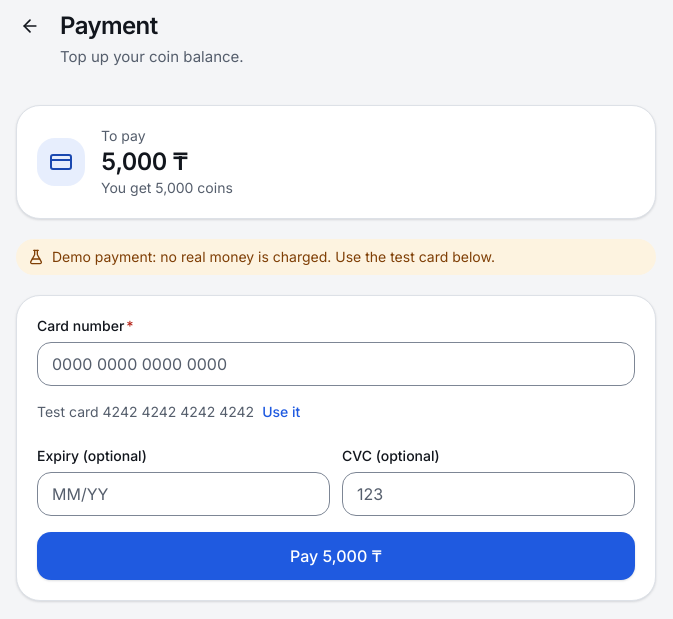
Test: CheckoutView (demo provider) › a declined card shows the error; a declined top-up offers a new one
The image size is (673, 619).
In the field with test id "card-number": [336, 364] box [37, 342, 635, 386], type "4000000000000002"
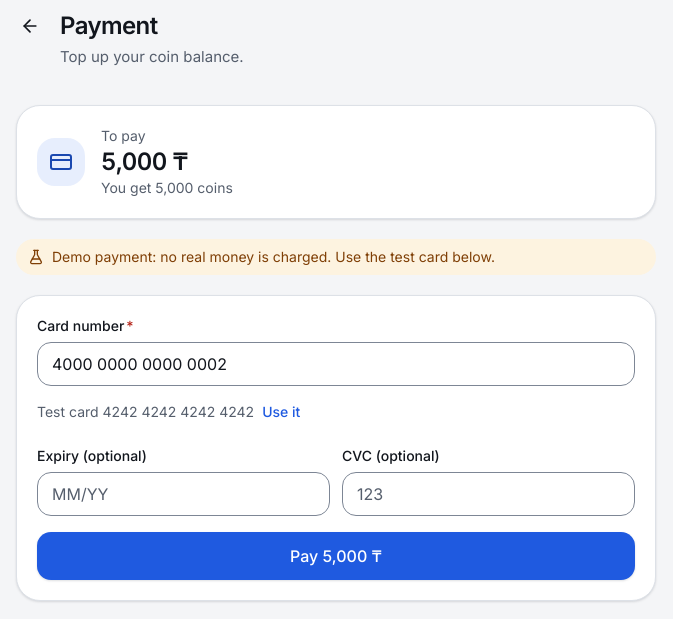
Click the button "Pay 5,000 ₸": [336, 556] box [37, 532, 635, 580]
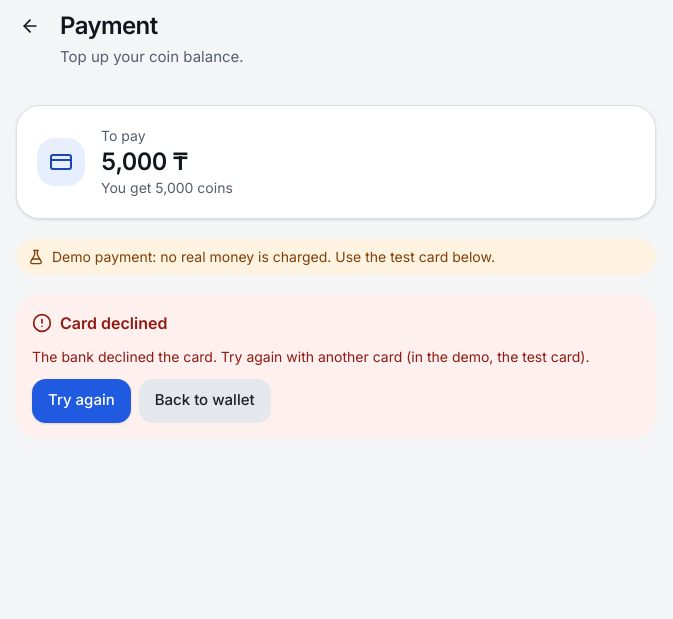
expect the text "Card declined" is shown: met, box [32, 312, 167, 332]
expect the button "Try again" is shown: met, box [32, 378, 131, 422]
